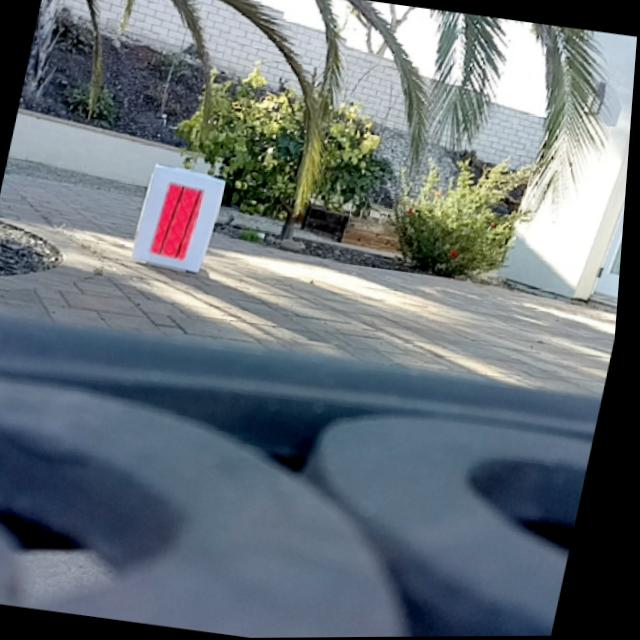led: (154, 182, 208, 268)
